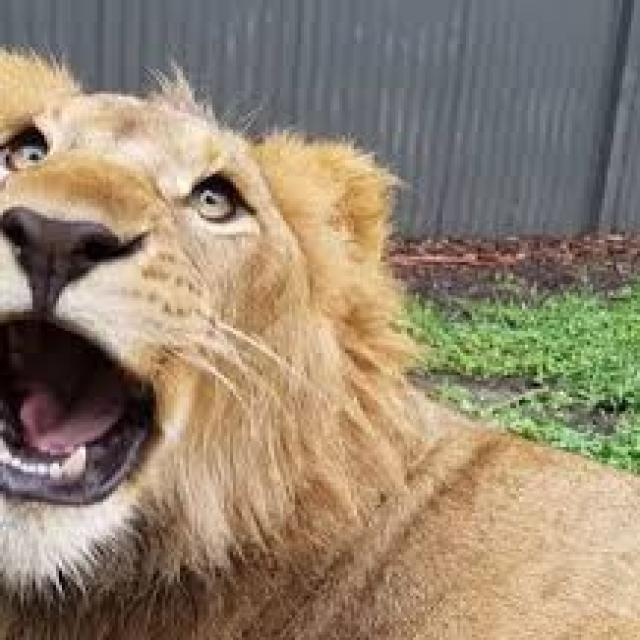Lion: (0, 48, 637, 637)
